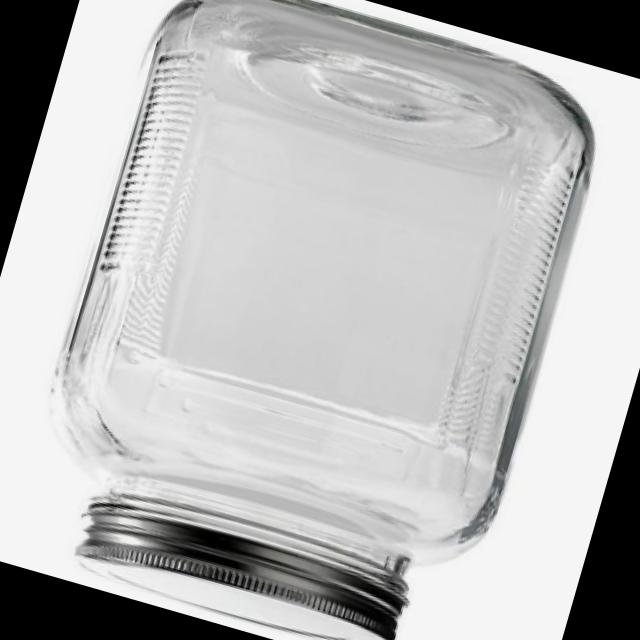ToplesKaca: (0, 0, 621, 640)
